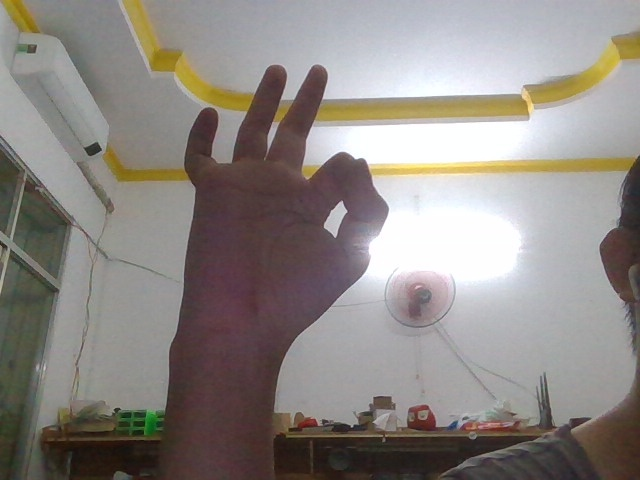okay: (152, 36, 404, 362)
